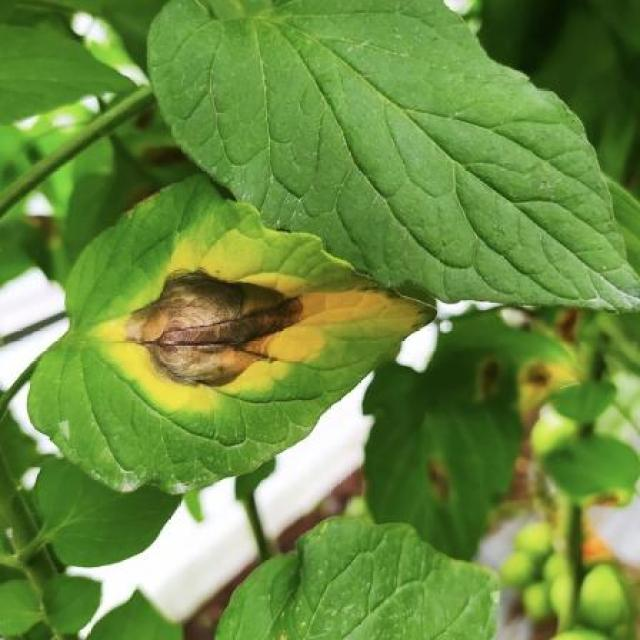Early Blight: (27, 170, 440, 503)
Healthy: (147, 0, 640, 317)
